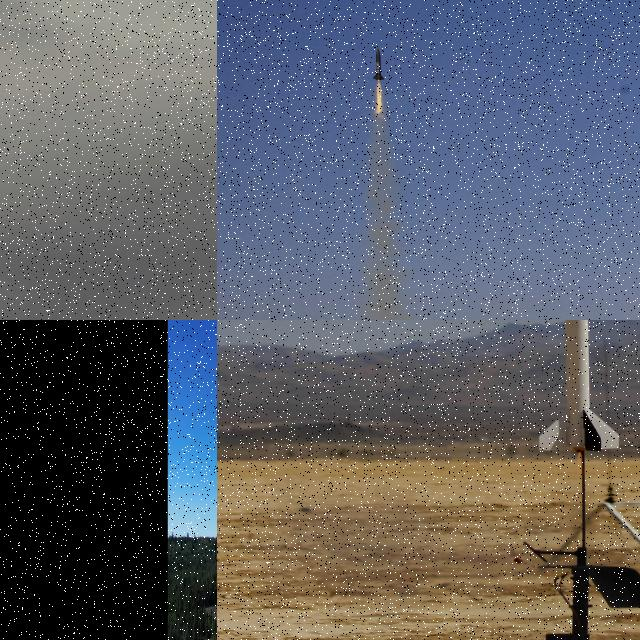Rocket: (537, 320, 620, 453), (373, 47, 385, 81)
